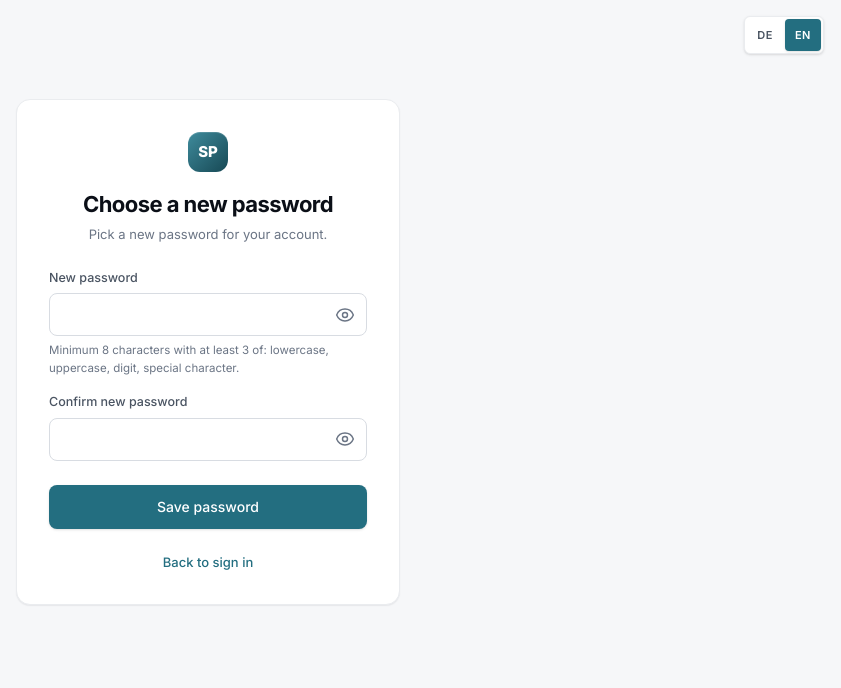
Test case: ResetPasswordPage › shows the localized API error for other failures and stays on the form
In the password field labelled "New password": (208, 315) [49,293,367,336], type "Schuler2026!"
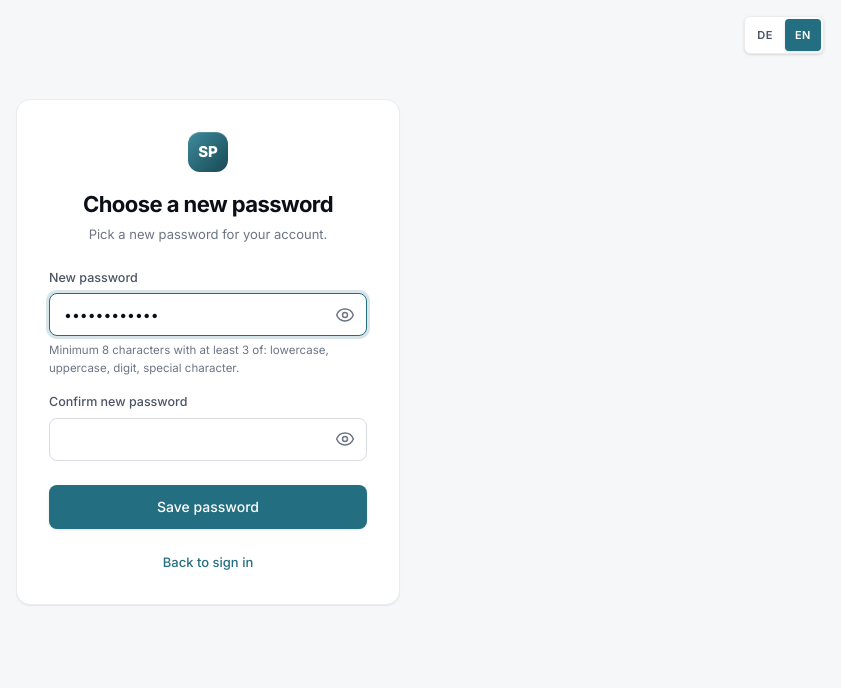
In the password field labelled "Confirm new password": (208, 439) [49,418,367,460], type "Schuler2026!"
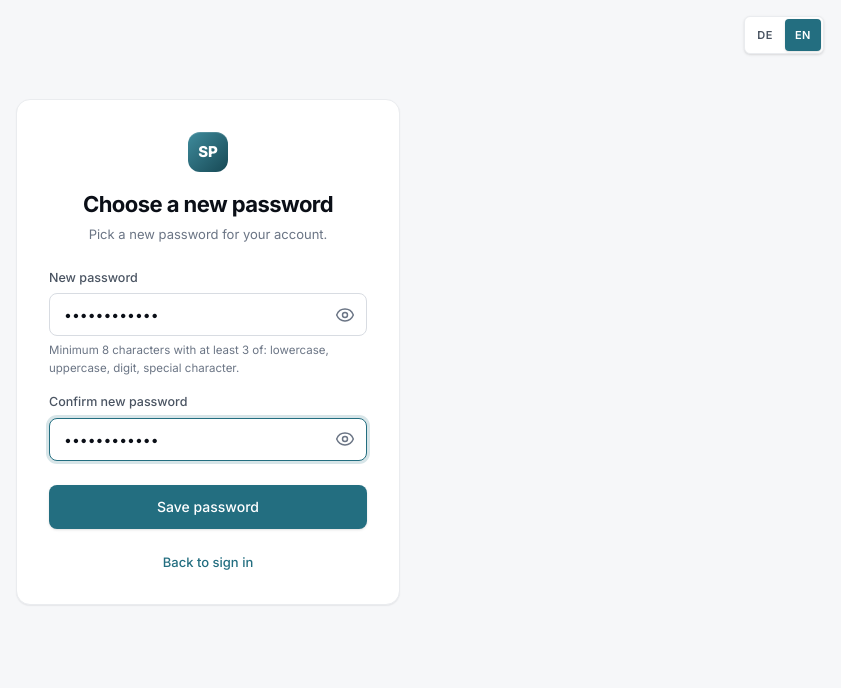
Click the button "Save password": (208, 506) [49,484,367,528]
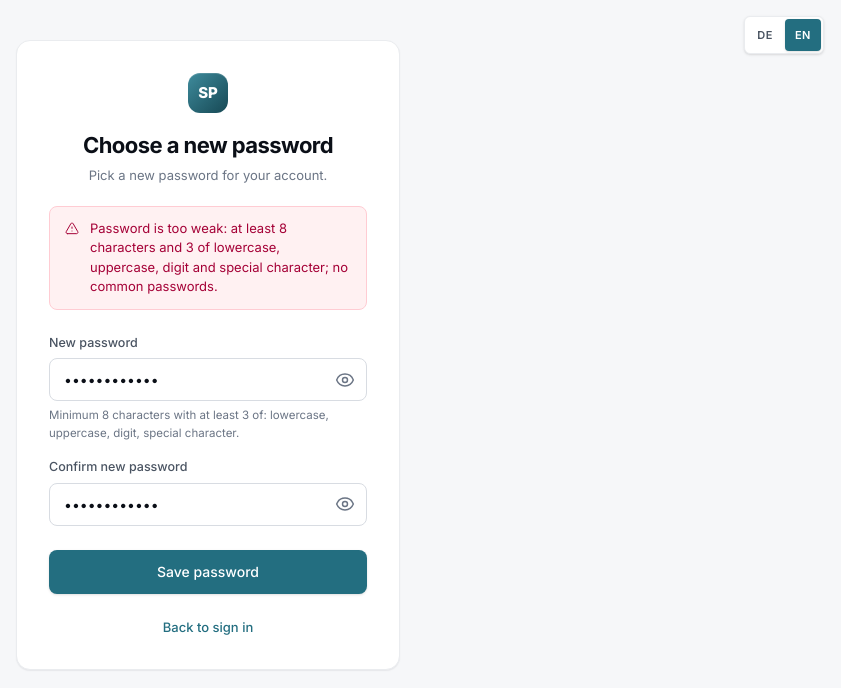
Check: the text "too weak" is shown, box [90,220,348,294]
